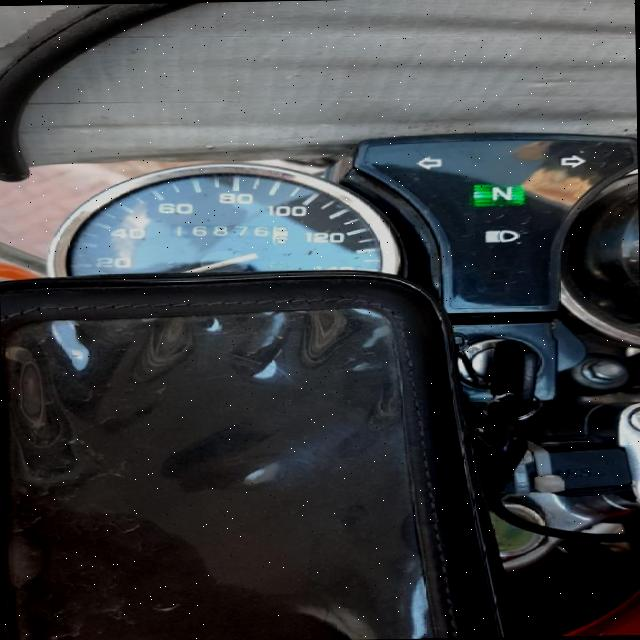odometer: (166, 221, 290, 248)
